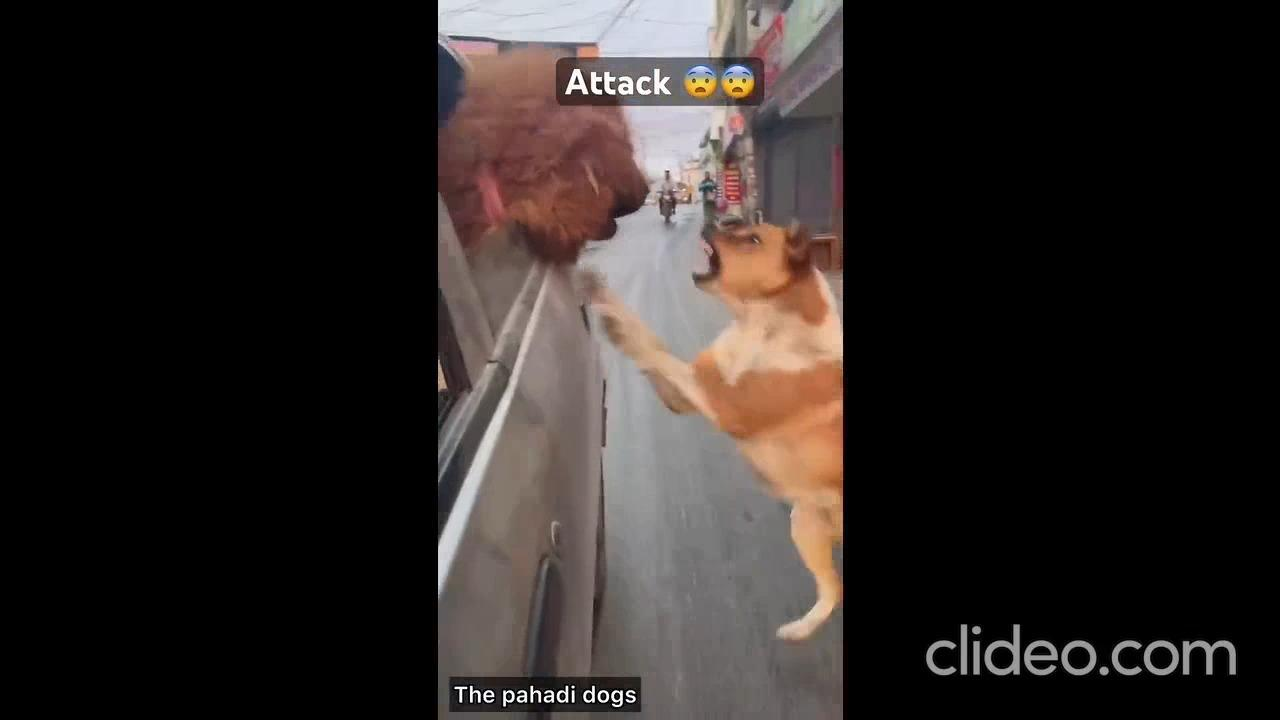dog: (584, 218, 853, 657)
